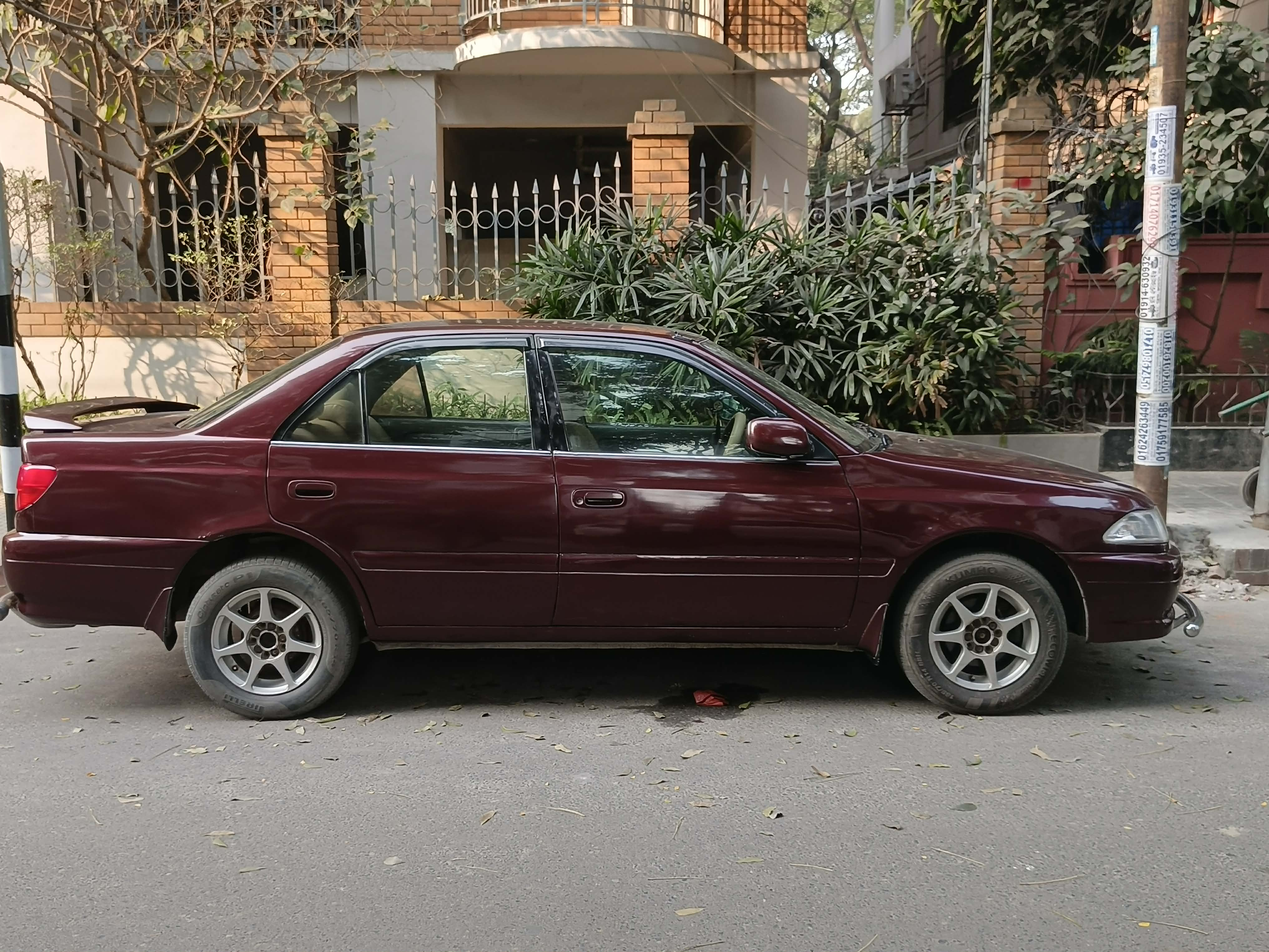private car: (6, 295, 1221, 740)
